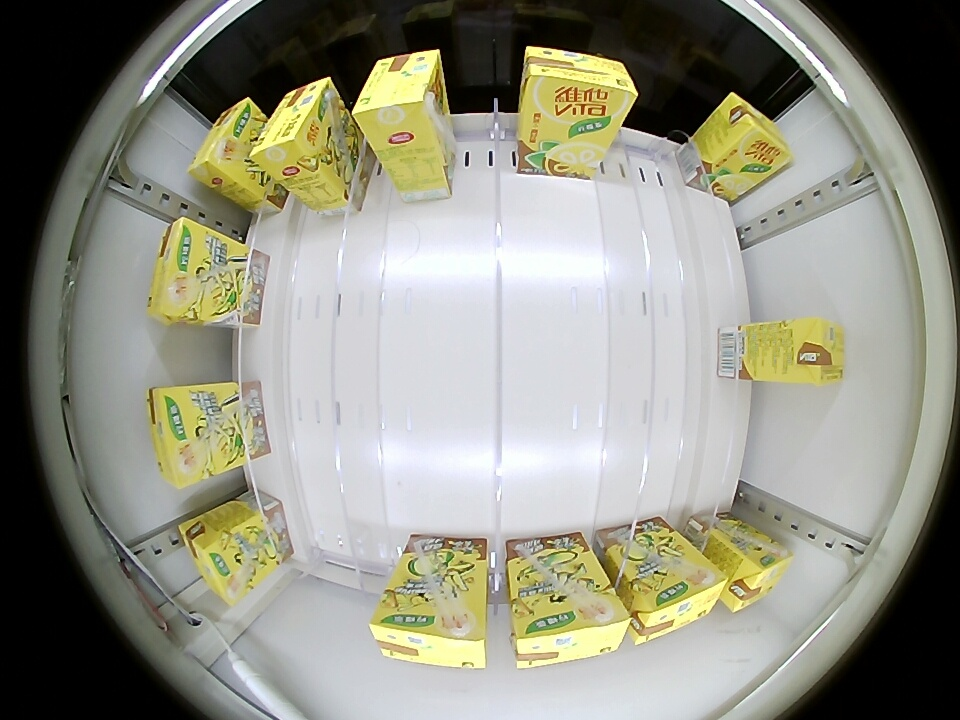weitaningmeng: (512, 584, 632, 671), (249, 77, 342, 180), (520, 46, 637, 127), (369, 591, 487, 669), (351, 49, 447, 144), (628, 555, 729, 645), (149, 216, 217, 325), (179, 512, 256, 605), (149, 385, 217, 489), (711, 93, 794, 176), (189, 97, 262, 189), (724, 538, 795, 613), (788, 317, 845, 385)
